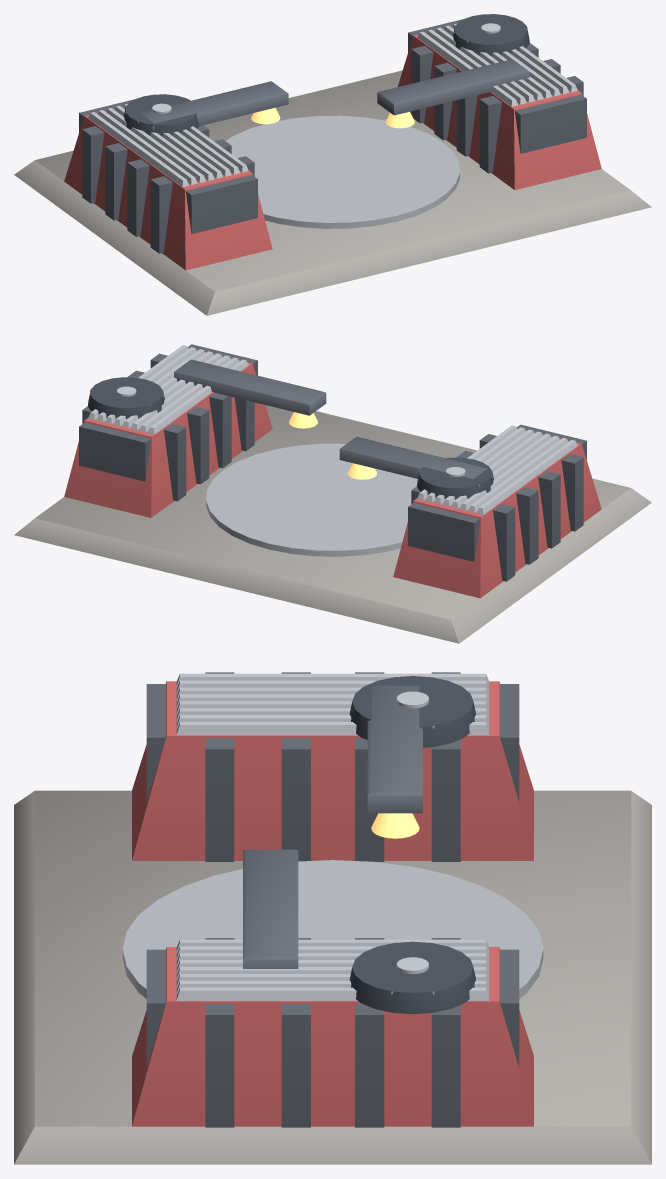
The model's file is nadept.glb.
3 renders of one model, top to bottom at view 1: azimuth 30°, elevation 25°; view 2: azimuth 150°, elevation 25°; view 3: azimuth 270°, elevation 25°, orthographic. The views are drawn at different scales.
Parts seen in each view (by area): view 1: Hull; view 2: Hull; view 3: Hull.
Part boxes in pixels (box(x1,y1,x2,y2)): Hull: box(14, 14, 651, 315); Hull: box(14, 344, 651, 643); Hull: box(14, 672, 651, 1164).
Bounding box in the file's own units: 6.62 × 1.44 × 4.97.
